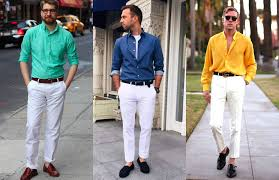F_belt: (211, 67, 249, 84), (29, 72, 67, 87), (118, 75, 158, 89)
F_shirt: (108, 34, 167, 86)
